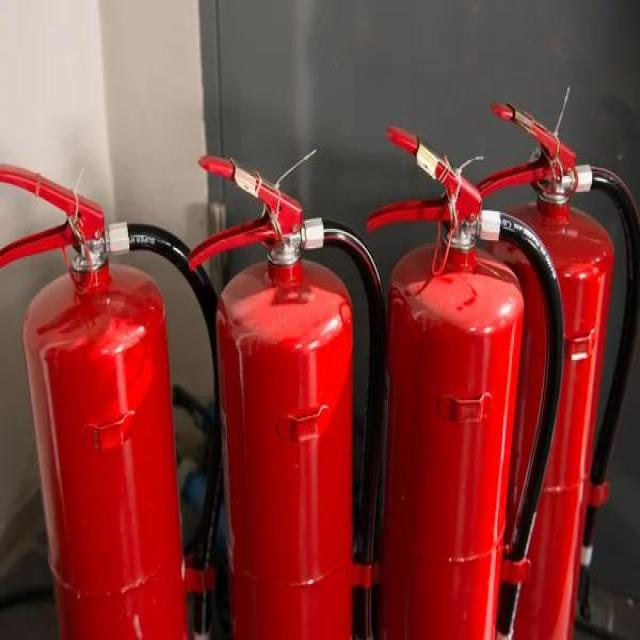fire_extinguisher: (0, 149, 235, 638), (354, 116, 571, 638), (177, 152, 393, 638), (463, 81, 639, 638)
